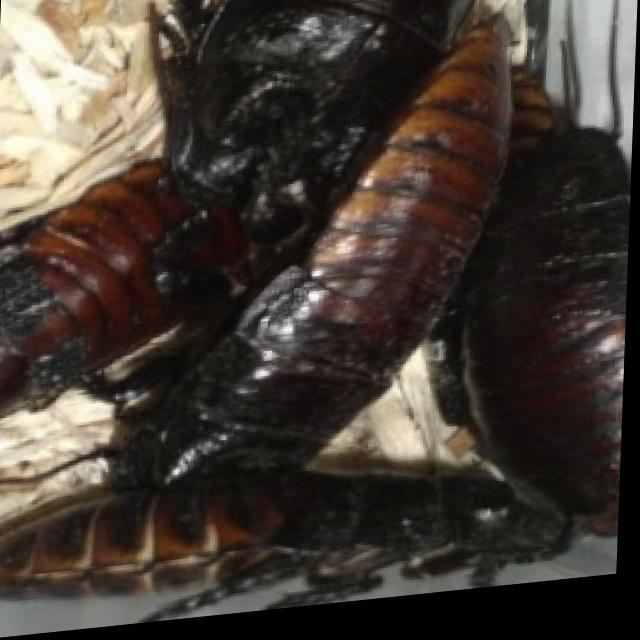cockroach: (125, 17, 532, 511), (0, 428, 606, 640), (0, 127, 246, 440)
